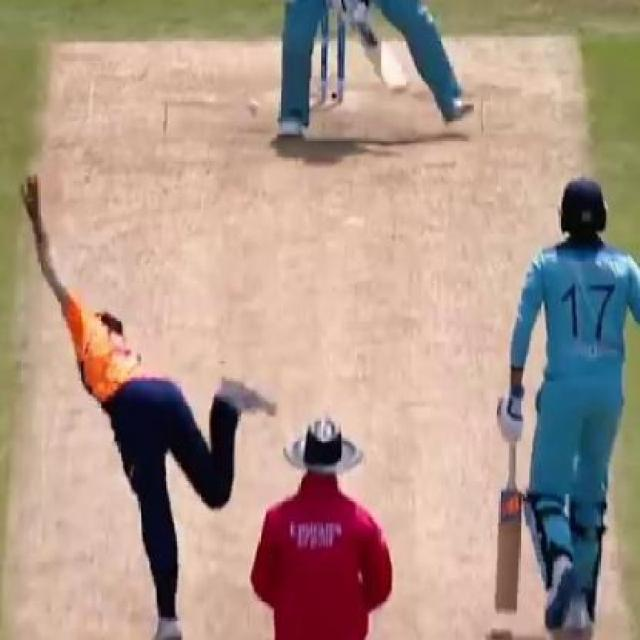Cricket ball: (245, 98, 262, 120)
